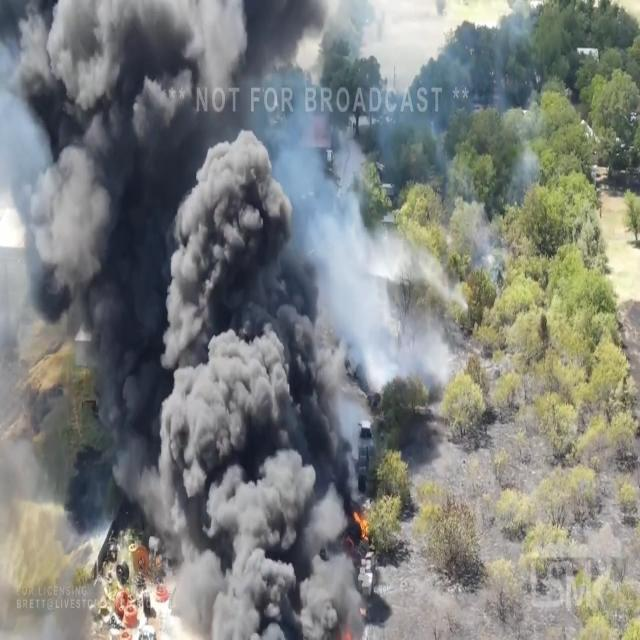Smoke: (71, 13, 356, 616)
